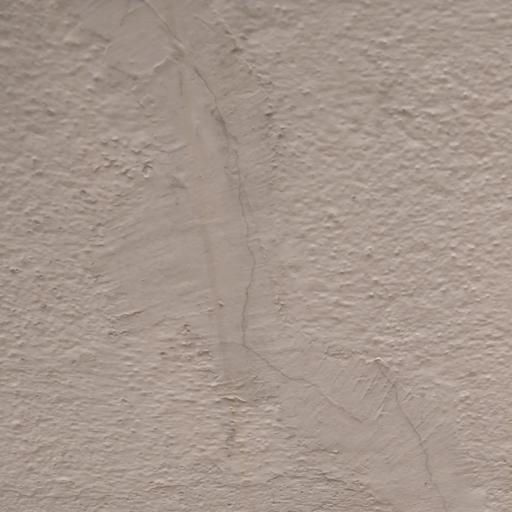minor_crack: (121, 16, 487, 512)
